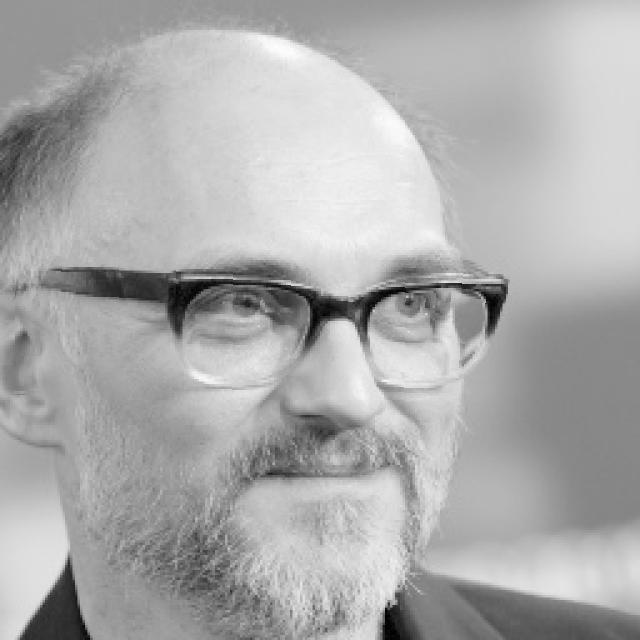glasses: (15, 258, 508, 400)
